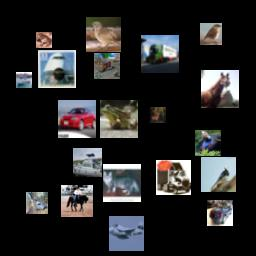airplane: (38, 50, 76, 88), (109, 216, 144, 251)
automobile: (58, 100, 96, 138), (207, 200, 233, 226)
bird: (201, 157, 236, 192), (86, 17, 121, 52), (195, 130, 221, 156), (200, 23, 222, 45)
cat: (103, 164, 141, 202)
deer: (26, 192, 48, 214), (150, 107, 166, 123)
frog: (100, 100, 138, 138), (36, 32, 52, 48)
ship: (73, 148, 102, 177), (16, 72, 32, 88)
truck: (141, 35, 179, 73), (156, 160, 191, 195), (94, 53, 120, 79)
